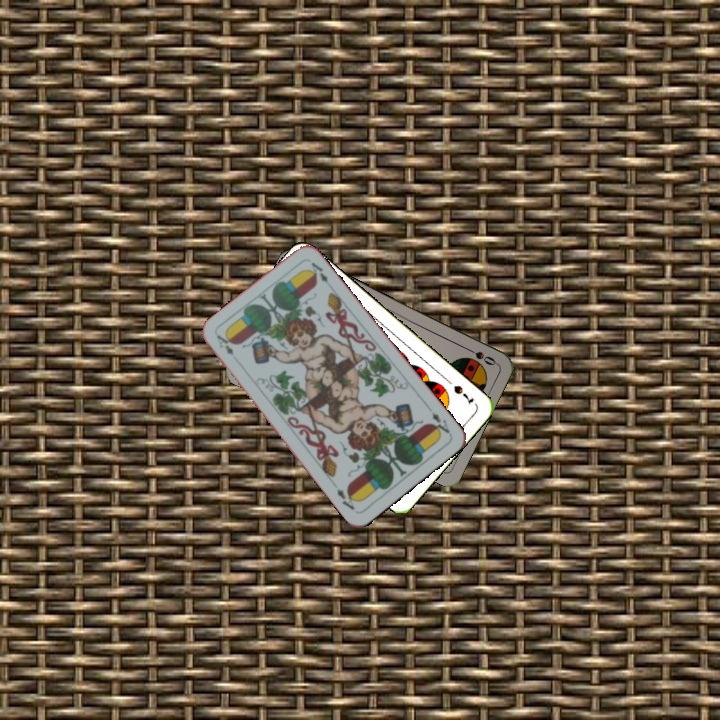EA: (427, 408, 452, 437), (212, 330, 236, 358)
S7: (449, 381, 476, 408)
SO: (461, 343, 499, 368)
